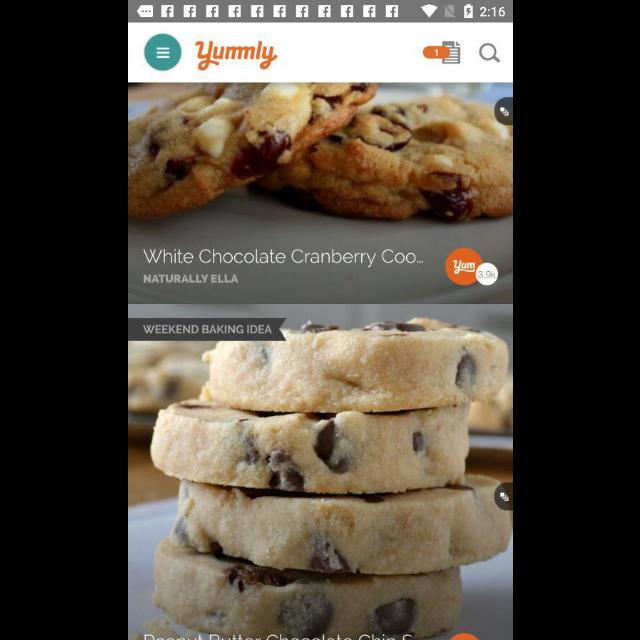icon: (143, 34, 181, 72), (422, 41, 461, 65), (478, 42, 500, 64)
image: (128, 304, 512, 640), (128, 83, 512, 304), (193, 40, 277, 72)
text: (142, 248, 422, 268), (143, 272, 240, 284)
toolbar: (128, 24, 512, 82)
uppertaskbar: (128, 1, 512, 23)
